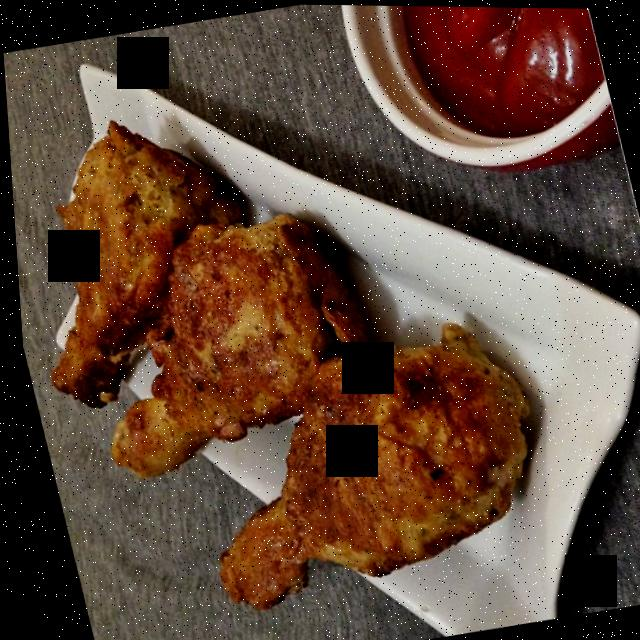Frango: (3, 58, 565, 634)
